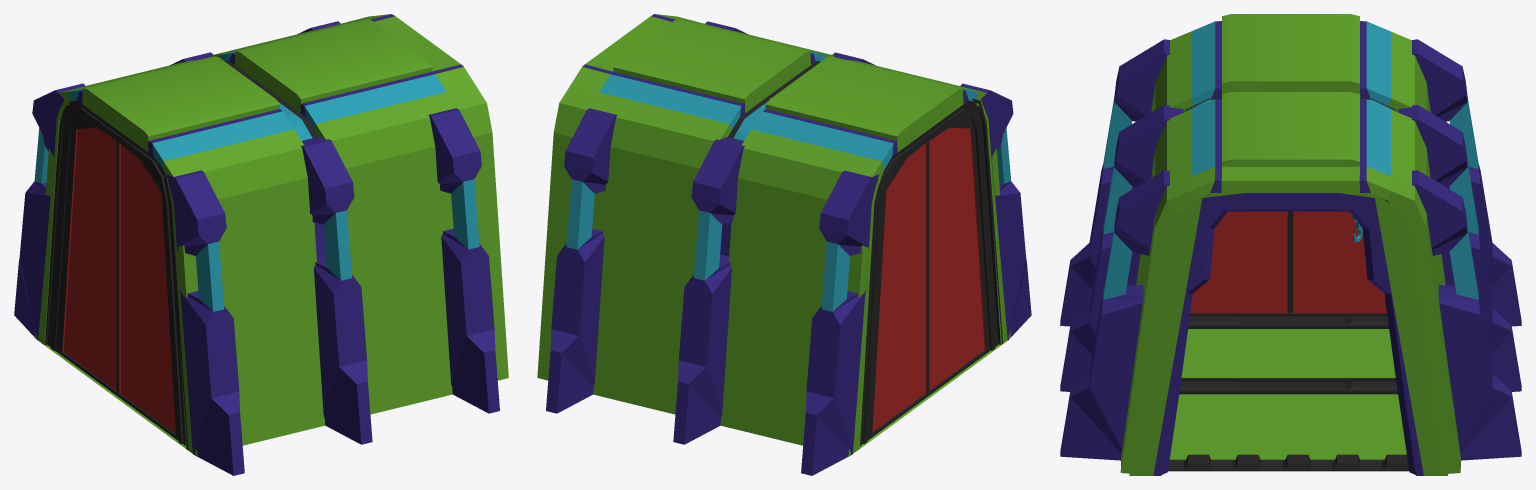
Rendered from hangar.fbx.
3 views of the same model, side by side, from view 1: azimuth 30°, elevation 25°; view 2: azimuth 150°, elevation 25°; view 3: azimuth 270°, elevation 25° (orthographic). The views are drawn at different scales.
Parts seen in each view (by area): view 1: Object009; view 2: Object009; view 3: Object009.
Boxes of the visible parts, <box> form: Object009: <box>14,14,508,475</box>; Object009: <box>537,14,1031,475</box>; Object009: <box>1060,14,1521,475</box>.
Size of the model in its own units: 56.1 by 49.15 by 68.03.
